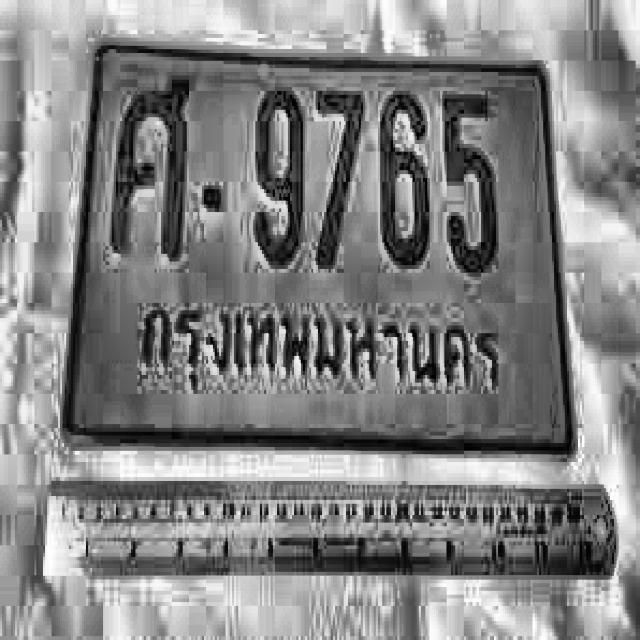license-plate: (54, 26, 599, 468)
